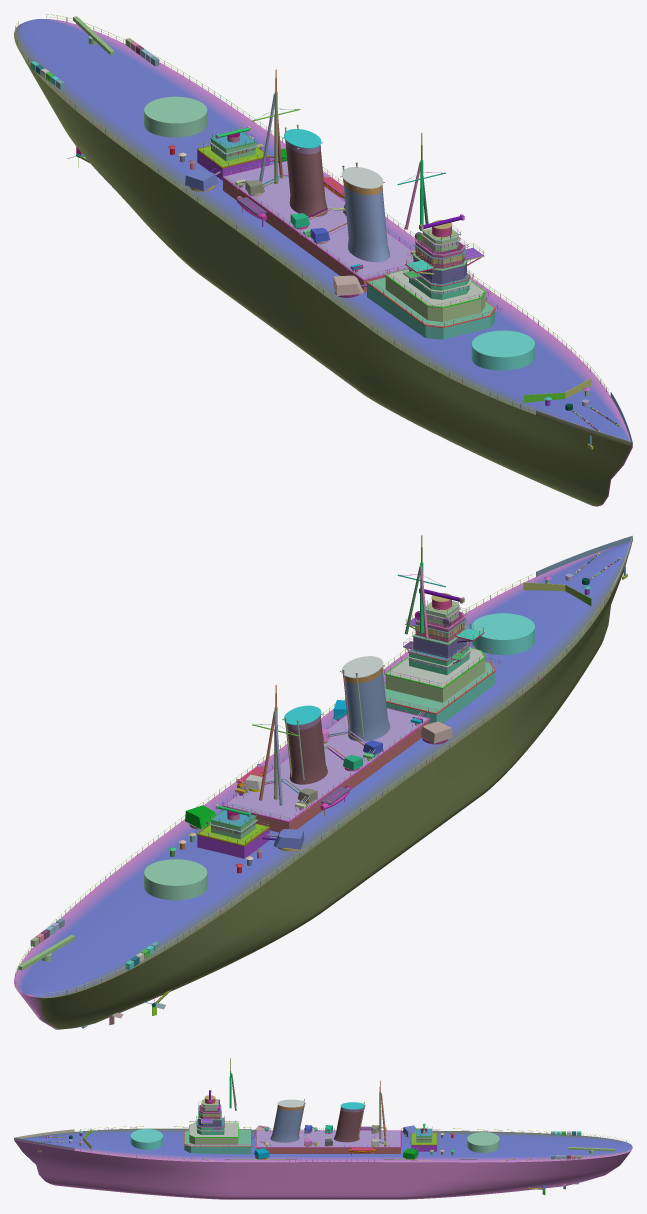
The picture shows the model from 3 angles, top to bottom: view 1: azimuth 30°, elevation 25°; view 2: azimuth 150°, elevation 25°; view 3: azimuth 270°, elevation 25°; orthographic projection. The views are drawn at different scales.
Visible parts, largest first — view 1: hull; view 2: hull; view 3: hull.
Part boxes in pixels (x1,y1,x2,y2): hull: [14, 14, 632, 506]; hull: [14, 535, 632, 1029]; hull: [14, 1058, 632, 1199].
Size of what is drawn, in the model's own units: 30.07 by 54.67 by 240.
